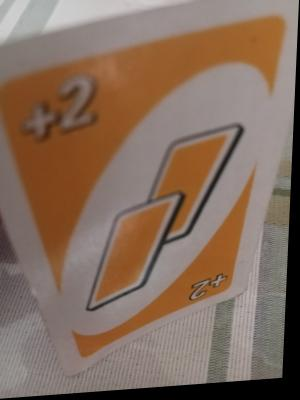-2: (11, 74, 110, 153), (178, 268, 235, 303)
yellow: (98, 116, 251, 261)
